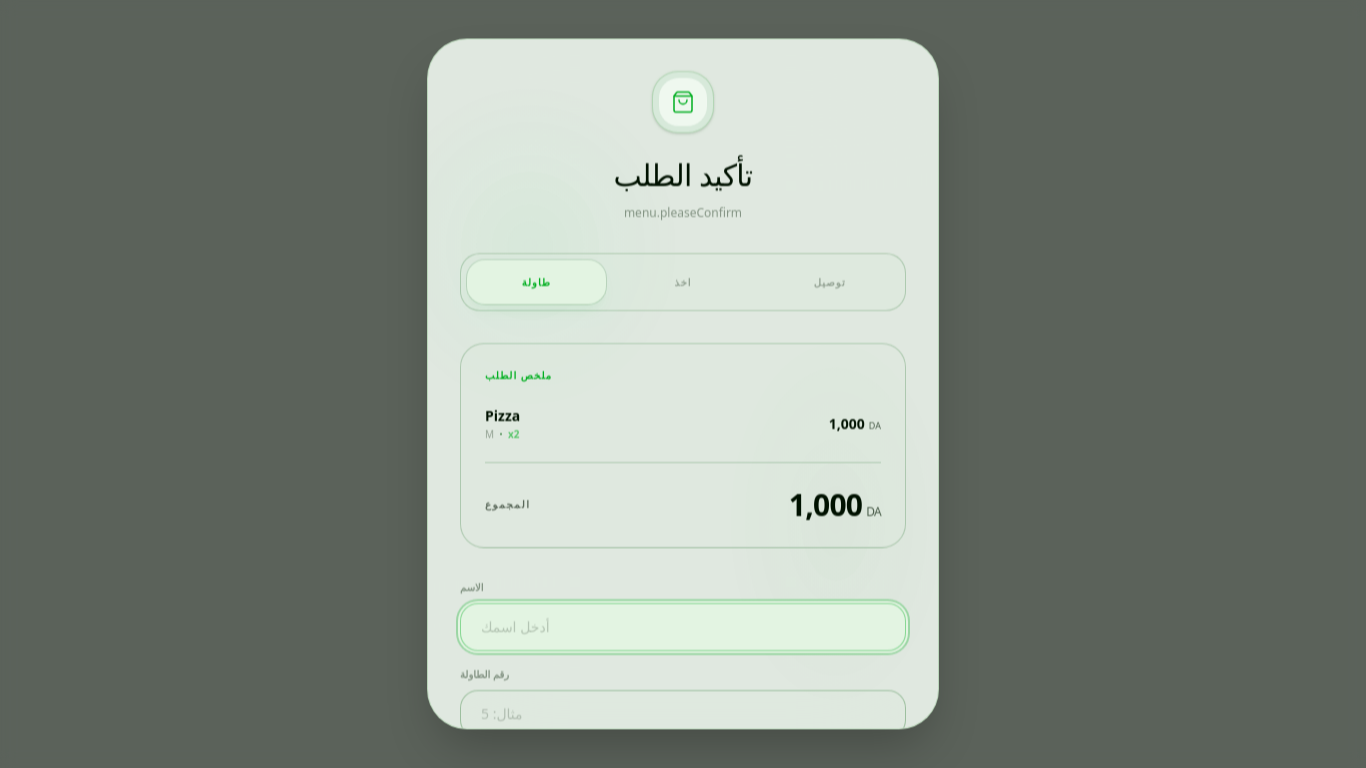
CheckoutModal — sessionStorage race fix › saves phone as empty string for dine_in orders (no phone collected)
Type "Ahmed" into the field with placeholder "أدخل اسمك".
click(683, 627); type("Ahmed")  # box x1=460 y1=603 x2=906 y2=651
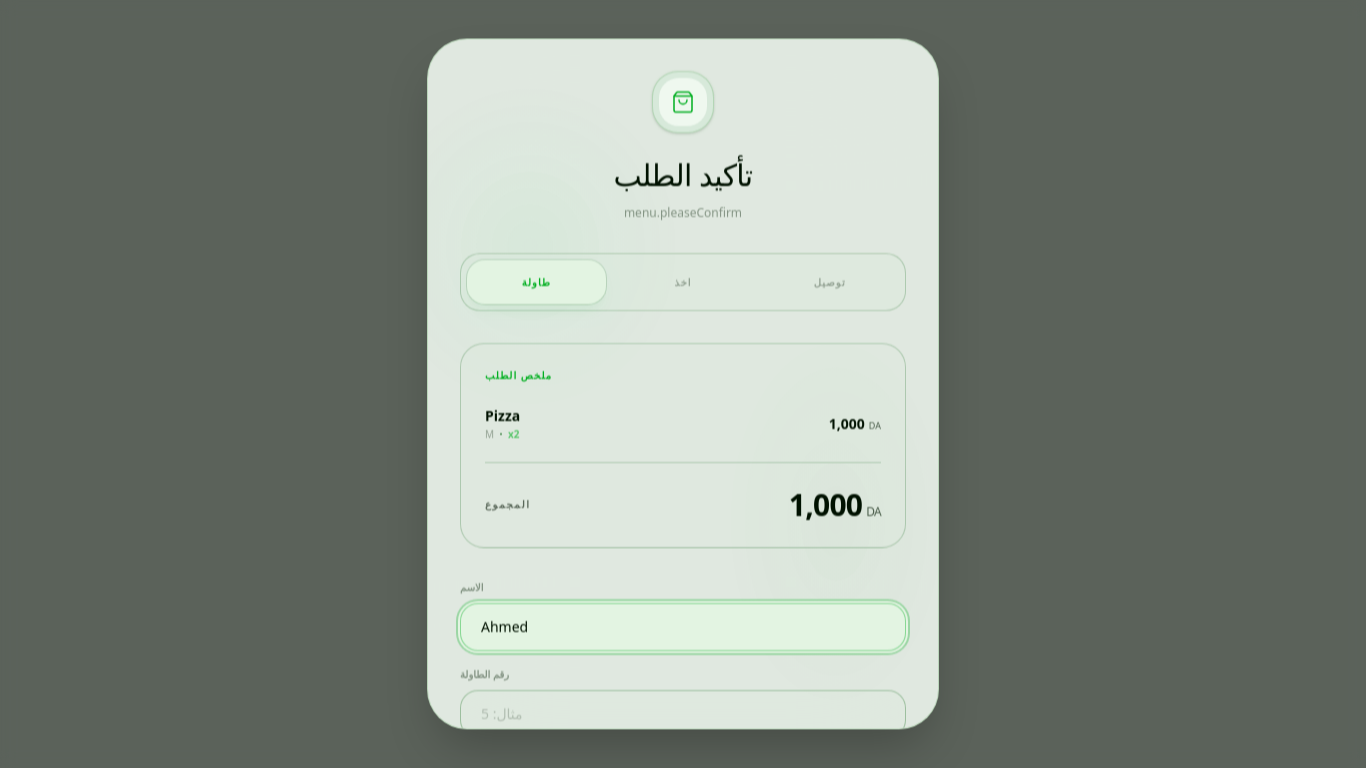
Type "5" into the number field with placeholder "مثال: 5".
click(683, 714); type("5")  # box x1=460 y1=690 x2=906 y2=738
(page scrolled)
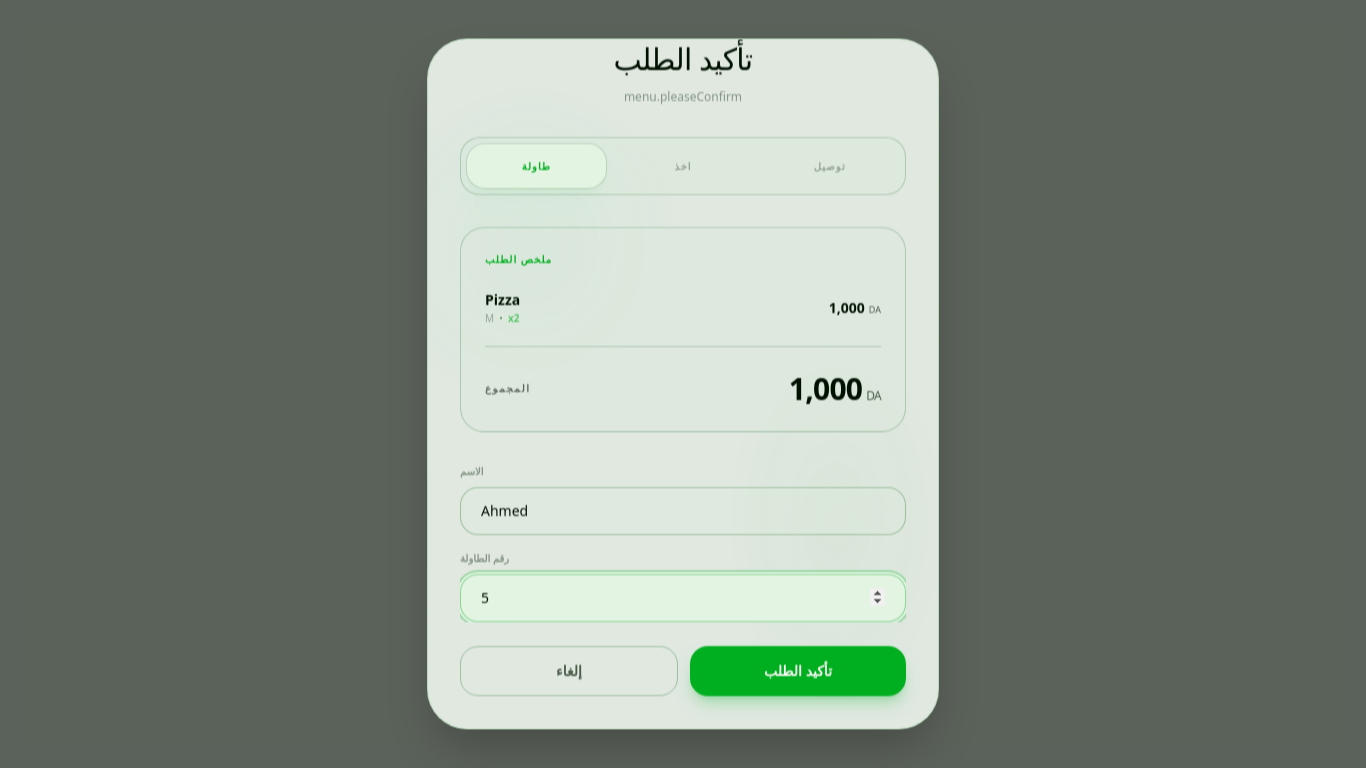
Click the button "تأكيد الطلب".
click(798, 671)  # box x1=690 y1=646 x2=906 y2=696
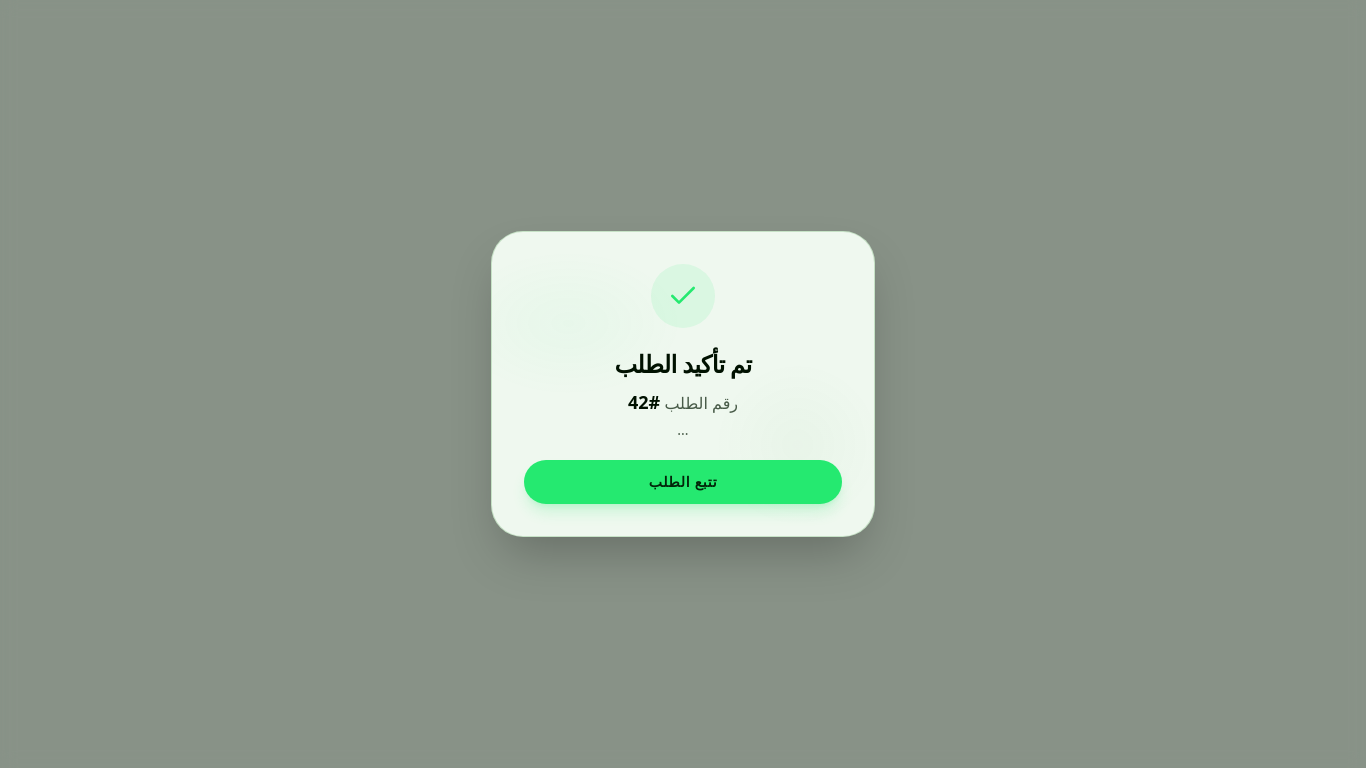
Expected: the heading "تم تأكيد الطلب" is shown, x1=614 y1=347 x2=752 y2=380
